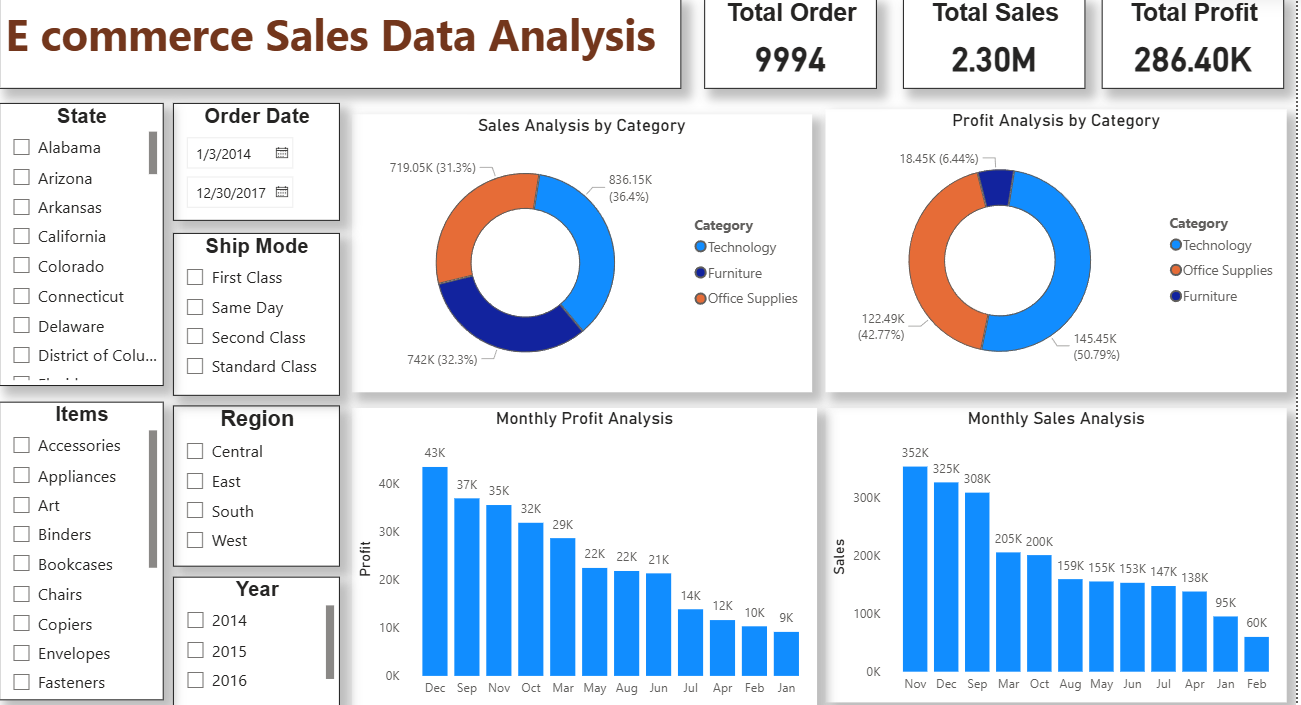

The page's visual inventory and layout, read from the dashboard file:
{"tool":"powerbi","page":{"name":"Page 1","canvas":[1280,720],"ordinal":0},"visuals":[{"type":"columnChart","title":"Monthly Sales Analysis","fields":{"Y":["Sum(Processed_Ecommerce_Data.Sales)"],"Category":["Processed_Ecommerce_Data.Month Short"]},"box":[819.2,410.3,451.5,288.2],"z":0},{"type":"donutChart","title":"Sales Analysis by Category","fields":{"Category":["Processed_Ecommerce_Data.Category"],"Y":["Sum(Processed_Ecommerce_Data.Sales)"]},"box":[355.4,123.5,450.1,271.7],"z":1000},{"type":"columnChart","title":"Monthly Profit Analysis","fields":{"Y":["Sum(Processed_Ecommerce_Data.Profit)"],"Category":["Processed_Ecommerce_Data.Month Short"]},"box":[355.4,410.3,455.6,292.3],"z":2000},{"type":"card","title":"Total Sales","fields":{"Values":["Sum(Processed_Ecommerce_Data.Sales)"]},"box":[894.7,9.6,178.4,89.2],"z":3000},{"type":"donutChart","title":"Profit Analysis by Category","fields":{"Category":["Processed_Ecommerce_Data.Category"],"Y":["Sum(Processed_Ecommerce_Data.Profit)"]},"box":[819.2,118,451.5,277.2],"z":4000},{"type":"card","title":"Total Profit","fields":{"Values":["Sum(Processed_Ecommerce_Data.Profit)"]},"box":[1089.5,9.6,178.4,89.2],"z":5000},{"type":"card","title":"Total Order","fields":{"Values":["CountNonNull(Processed_Ecommerce_Data.Row ID)"]},"box":[701.2,9.6,168.8,89.2],"z":6000},{"type":"textbox","box":[11,9.6,666.9,89.2],"z":7000},{"type":"slicer","title":"Region","fields":{"Values":["Processed_Ecommerce_Data.Region"]},"box":[181.1,408.9,163.3,157.8],"z":8000},{"type":"slicer","title":"Order Date","fields":{"Values":["Processed_Ecommerce_Data.Order Date"]},"box":[181.1,112.5,163.3,115.3],"z":9000},{"type":"slicer","title":"Ship Mode","fields":{"Values":["Processed_Ecommerce_Data.Ship Mode"]},"box":[181.1,240.1,163.3,159.2],"z":10000},{"type":"slicer","title":"State","fields":{"Values":["Processed_Ecommerce_Data.State"]},"box":[11,112.5,160.5,277.2],"z":11000},{"type":"slicer","title":"Year","fields":{"Values":["Processed_Ecommerce_Data.Order Year"]},"box":[181.1,576.3,163.3,126.2],"z":12000},{"type":"slicer","title":"Items","fields":{"Values":["Processed_Ecommerce_Data.Sub-Category"]},"box":[11,404.8,160.5,292.3],"z":13000}]}

Visuals, with their boxes on the page's 1280x720 design canvas (x1, y1, x2, y2). These are canvas units, not pixel positions in the 1301x705 screenshot, which may show the page scaled, cropped or inside an application window:
"Monthly Sales Analysis" columnChart: bbox(819, 410, 1271, 698)
"Sales Analysis by Category" donutChart: bbox(355, 124, 806, 395)
"Monthly Profit Analysis" columnChart: bbox(355, 410, 811, 703)
"Total Sales" card: bbox(895, 10, 1073, 99)
"Profit Analysis by Category" donutChart: bbox(819, 118, 1271, 395)
"Total Profit" card: bbox(1090, 10, 1268, 99)
"Total Order" card: bbox(701, 10, 870, 99)
textbox: bbox(11, 10, 678, 99)
"Region" slicer: bbox(181, 409, 344, 567)
"Order Date" slicer: bbox(181, 112, 344, 228)
"Ship Mode" slicer: bbox(181, 240, 344, 399)
"State" slicer: bbox(11, 112, 172, 390)
"Year" slicer: bbox(181, 576, 344, 702)
"Items" slicer: bbox(11, 405, 172, 697)
